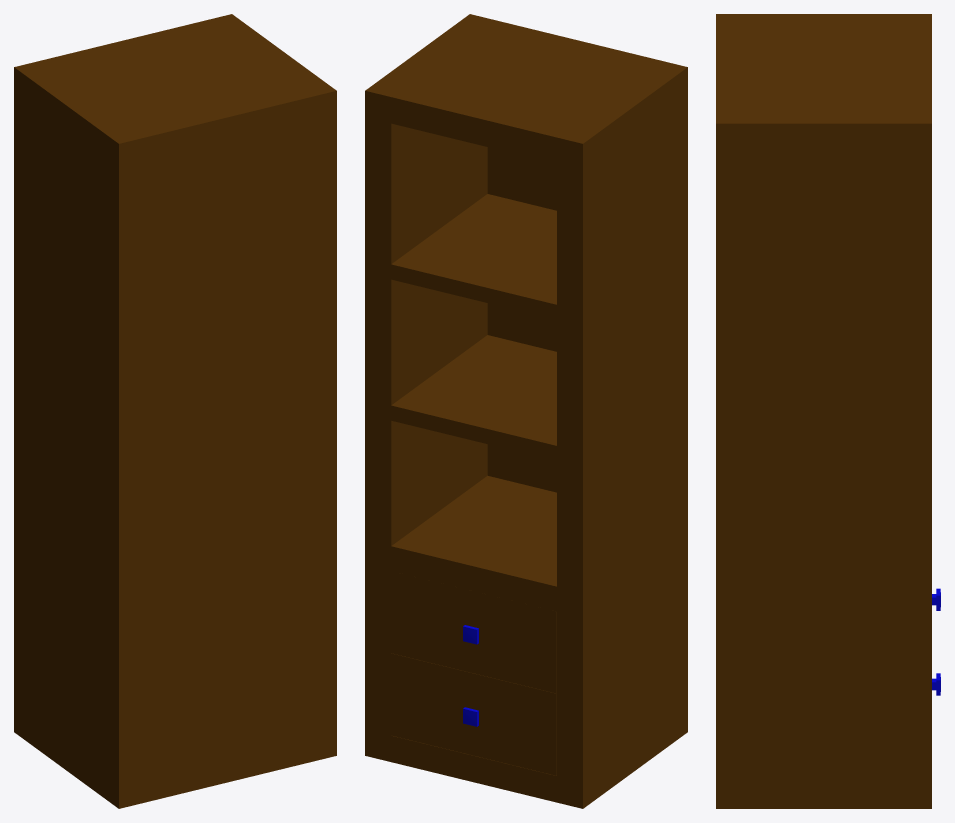
The model's file is Modulo_low.fbx.
The picture shows the model from 3 angles, left to right: view 1: azimuth 30°, elevation 25°; view 2: azimuth 150°, elevation 25°; view 3: azimuth 270°, elevation 25°; orthographic projection. The views are drawn at different scales.
Parts seen in each view (by area): view 1: Base; view 2: Base, Cajon_Down, Cajon_Up; view 3: Base.
Boxes of the visible parts, x1=… form: Base: x1=14, y1=14, x2=336, y2=808; Base: x1=365, y1=14, x2=687, y2=808; Cajon_Down: x1=391, y1=653, x2=556, y2=775; Cajon_Up: x1=391, y1=571, x2=556, y2=693; Base: x1=716, y1=14, x2=931, y2=808.
Size of the model in its own units: 60 by 175 by 52.04.
